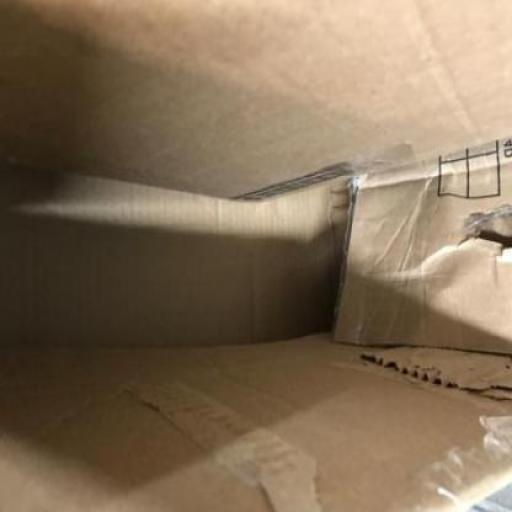cardboard: (1, 0, 512, 511), (0, 0, 511, 202), (1, 328, 511, 510), (0, 183, 354, 345)
